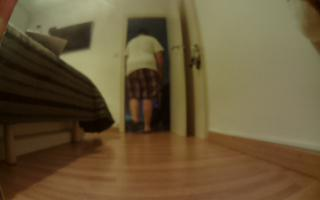person: (121, 26, 168, 137)
